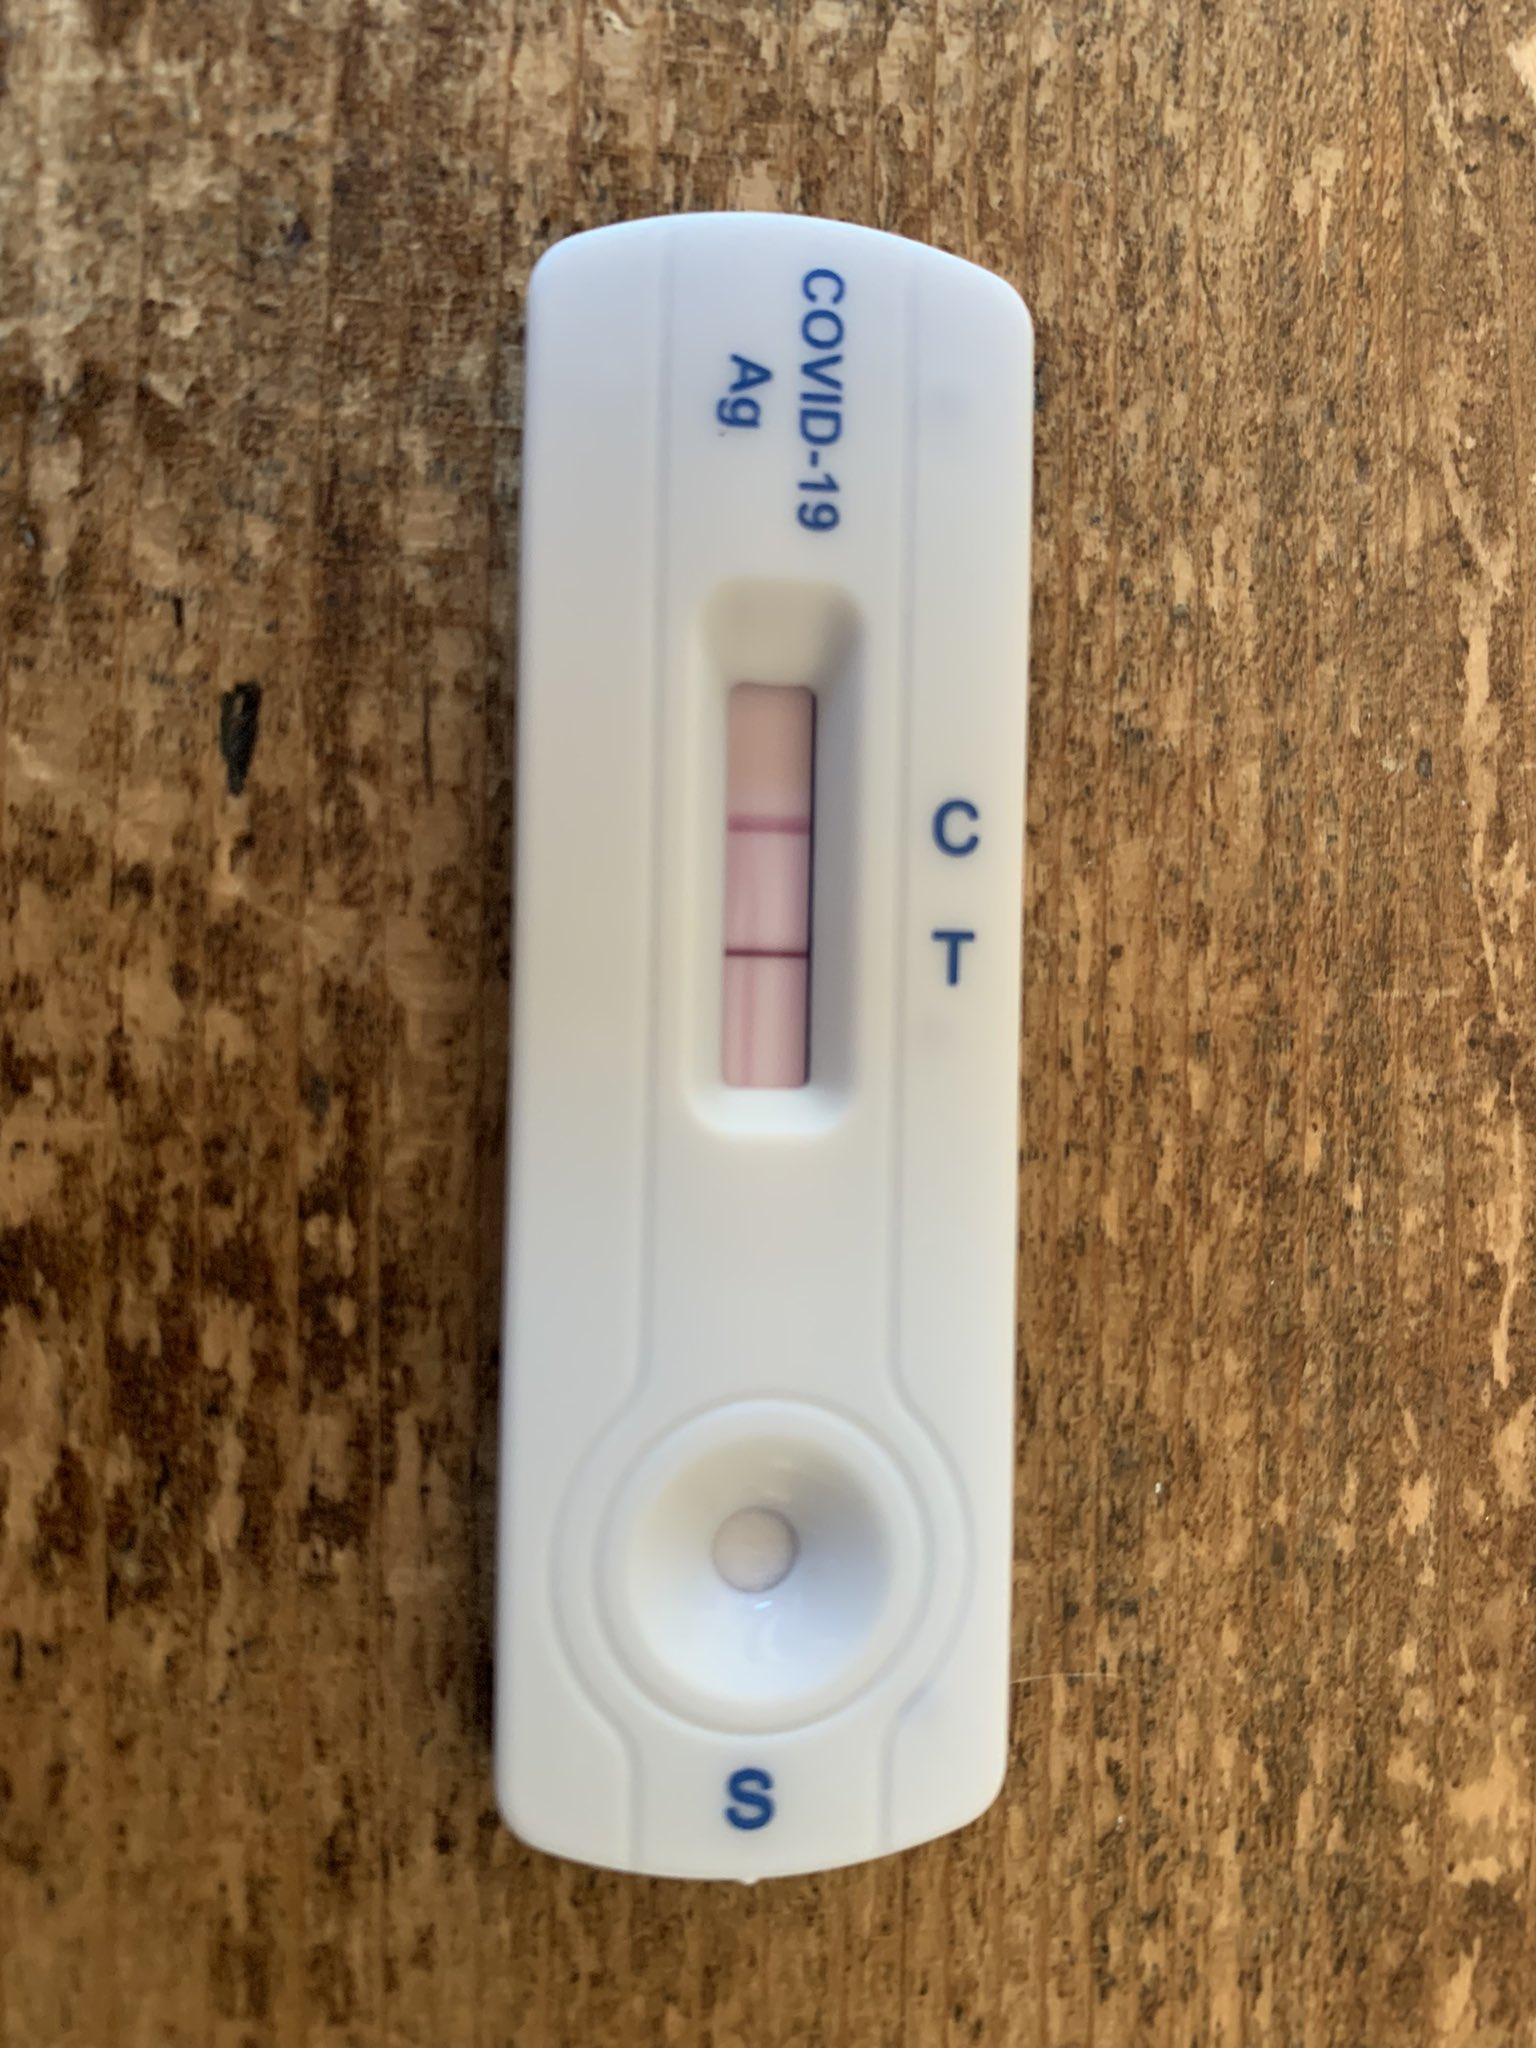positive: (692, 618, 850, 1143)
